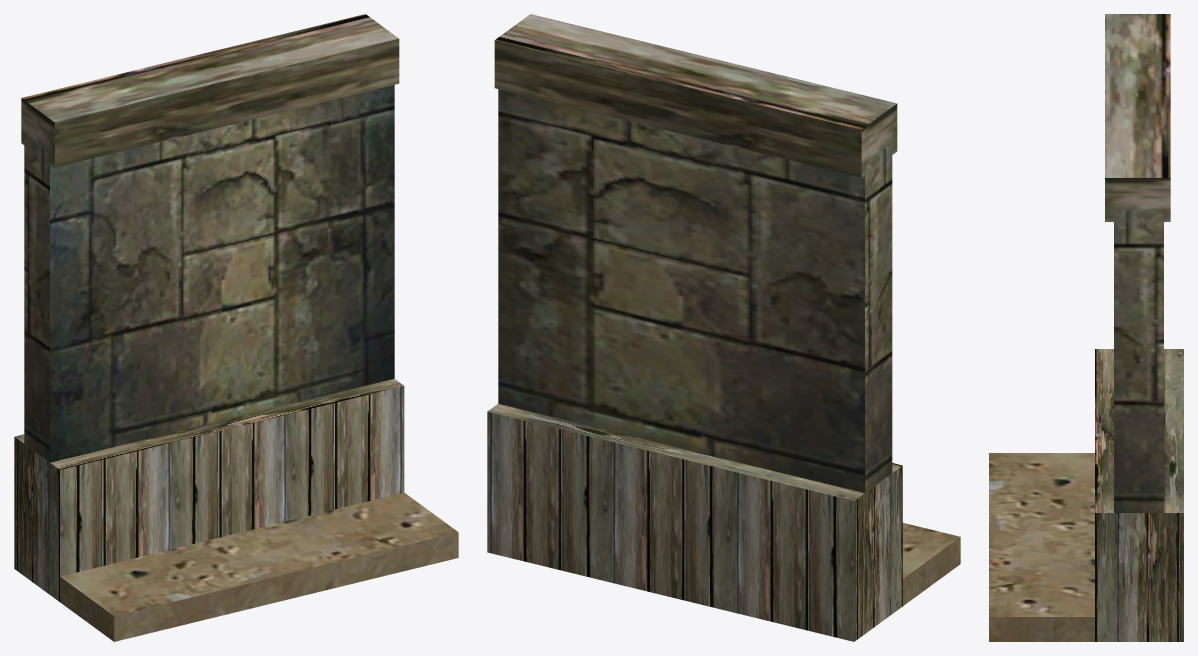
3 renders of one model, left to right at view 1: azimuth 30°, elevation 25°; view 2: azimuth 150°, elevation 25°; view 3: azimuth 270°, elevation 25°, orthographic. The views are drawn at different scales.
Visible parts, largest first — view 1: HouseWall01; view 2: HouseWall01; view 3: HouseWall01.
Boxes of the visible parts, left/top/right/bottom form: HouseWall01: left=14, top=14, right=458, bottom=641; HouseWall01: left=487, top=14, right=960, bottom=641; HouseWall01: left=989, top=14, right=1183, bottom=641.
Bounding box in the file's own units: 200 × 264 × 100.
